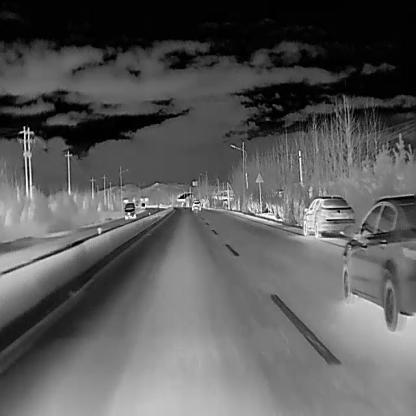car: (342, 192, 416, 330), (302, 195, 355, 238), (123, 202, 136, 220), (190, 199, 201, 211), (141, 201, 146, 209)
